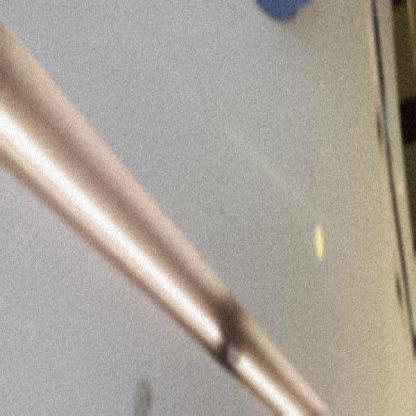light_on: (0, 110, 224, 362), (224, 336, 316, 414)
